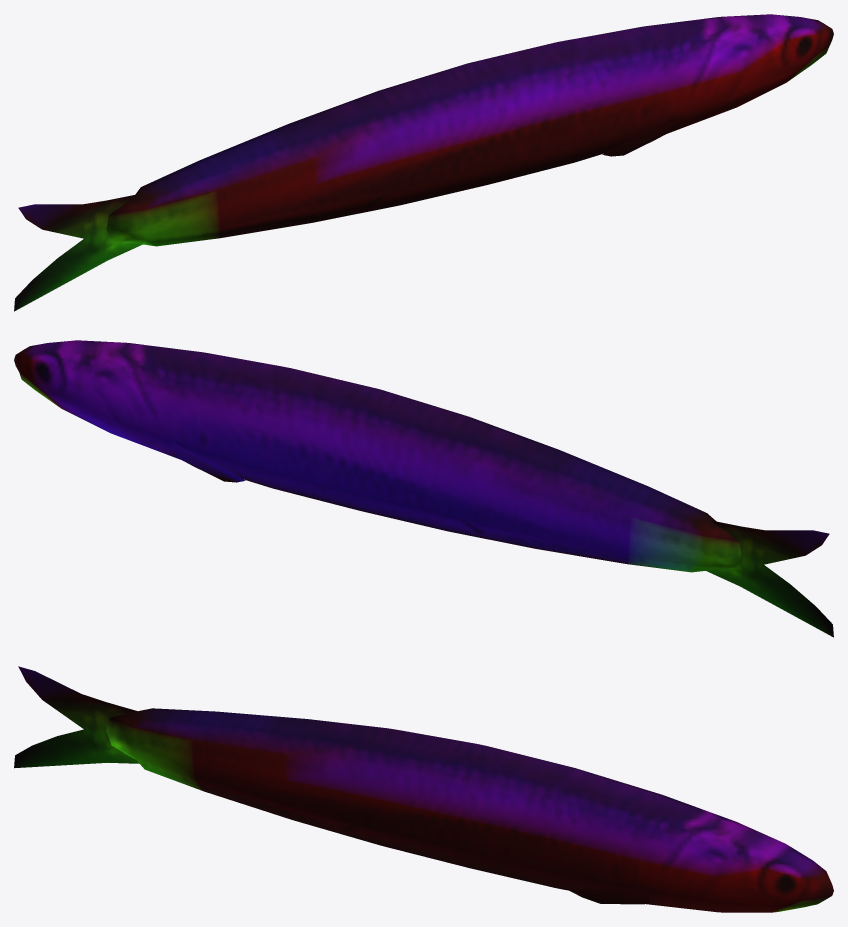
Rendered from european_anchovy.glb.
3 views of the same model, one above another, from view 1: azimuth 30°, elevation 25°; view 2: azimuth 150°, elevation 25°; view 3: azimuth 330°, elevation 25° (orthographic).
Visible parts, largest first — view 1: EuropeanAnchovy; view 2: EuropeanAnchovy; view 3: EuropeanAnchovy.
Boxes of the visible parts, x1,y1,x2,y2 form: EuropeanAnchovy: (14, 14, 833, 311); EuropeanAnchovy: (14, 340, 833, 637); EuropeanAnchovy: (14, 666, 833, 912).
Bounding box in the file's own units: 1 × 0.16 × 0.0737.
Materials: 1 (1 with a texture image).
